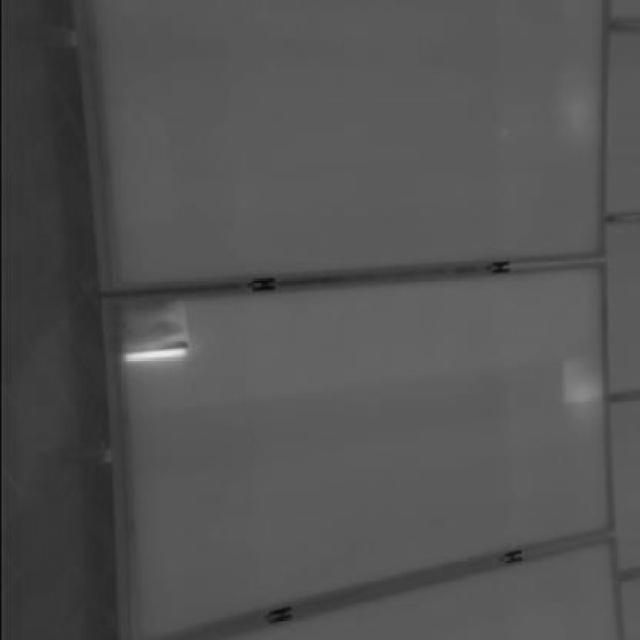hotspot: (111, 294, 194, 364)
